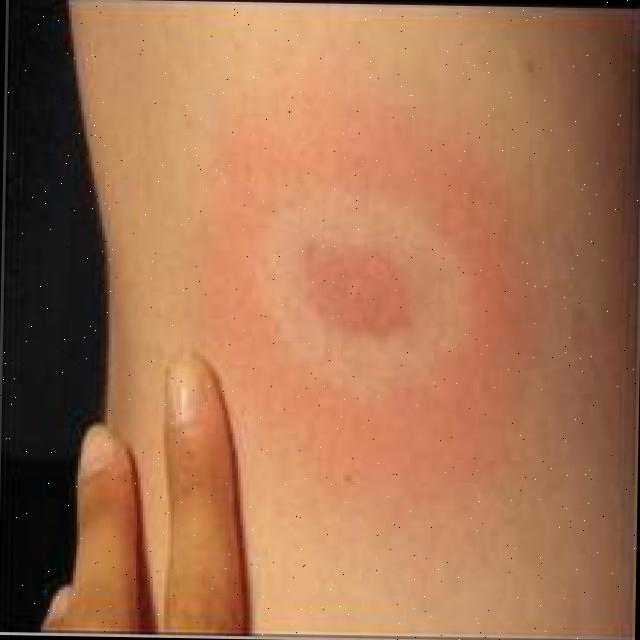kene: (161, 49, 607, 564)
